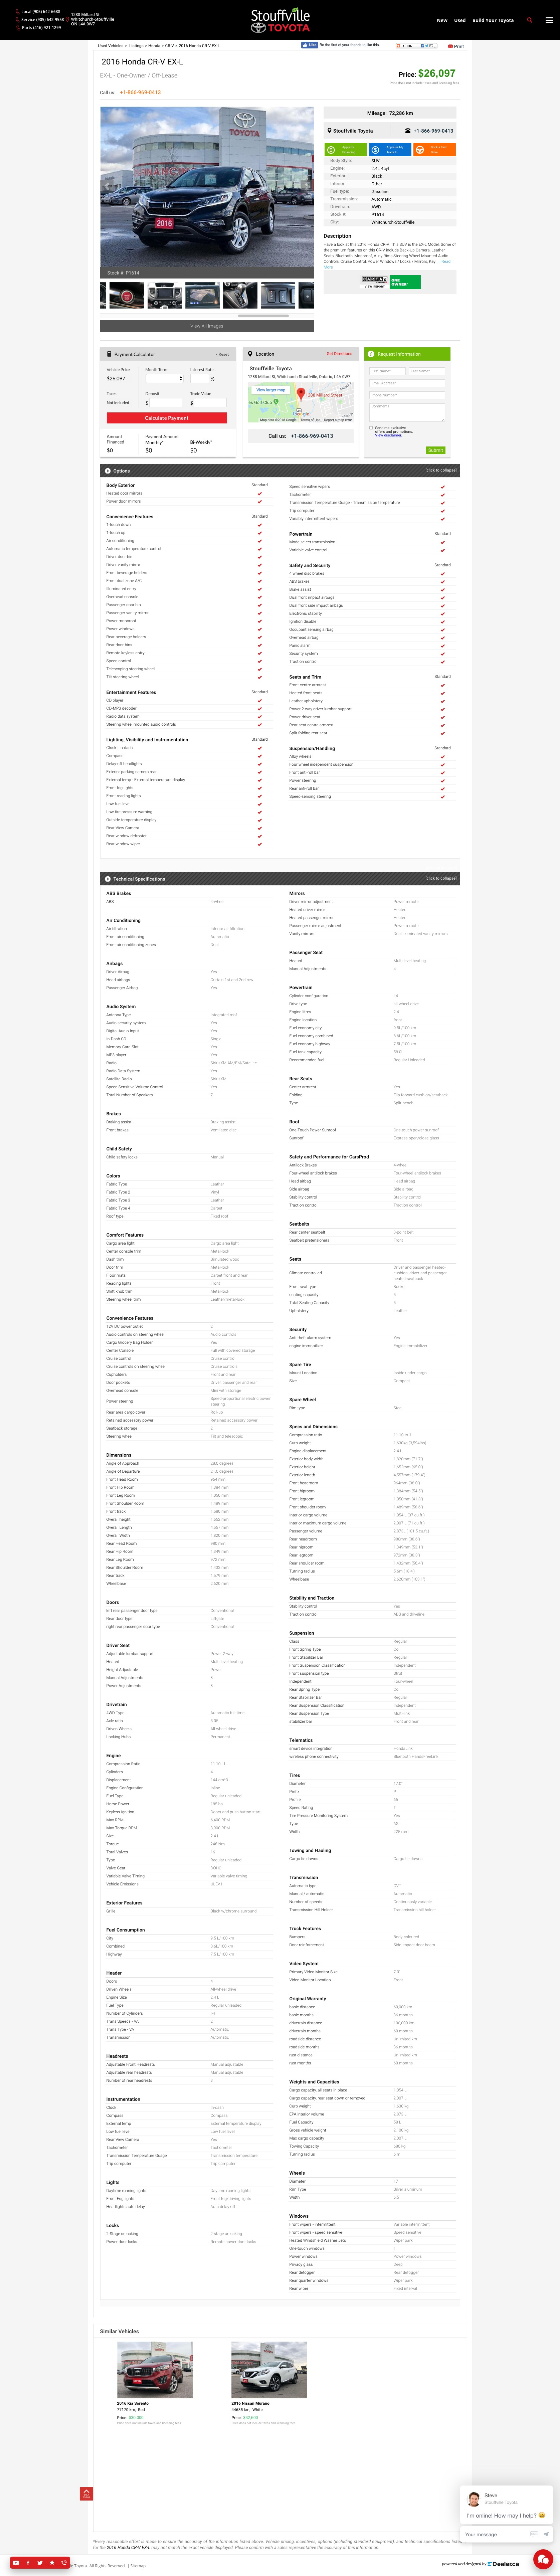car: (309, 283, 315, 310)
